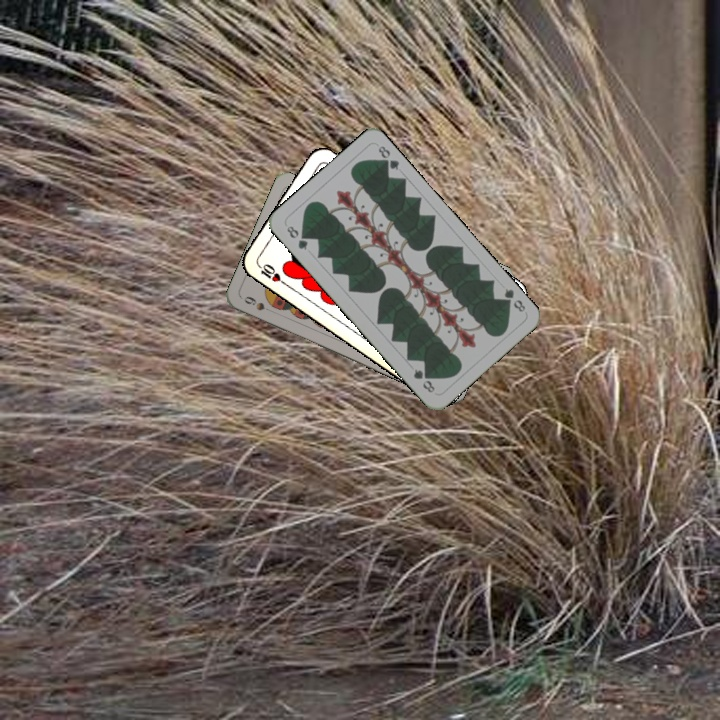G8: (498, 284, 528, 315), (282, 221, 311, 253)
H10: (253, 260, 289, 288)
S9: (240, 292, 275, 315)
